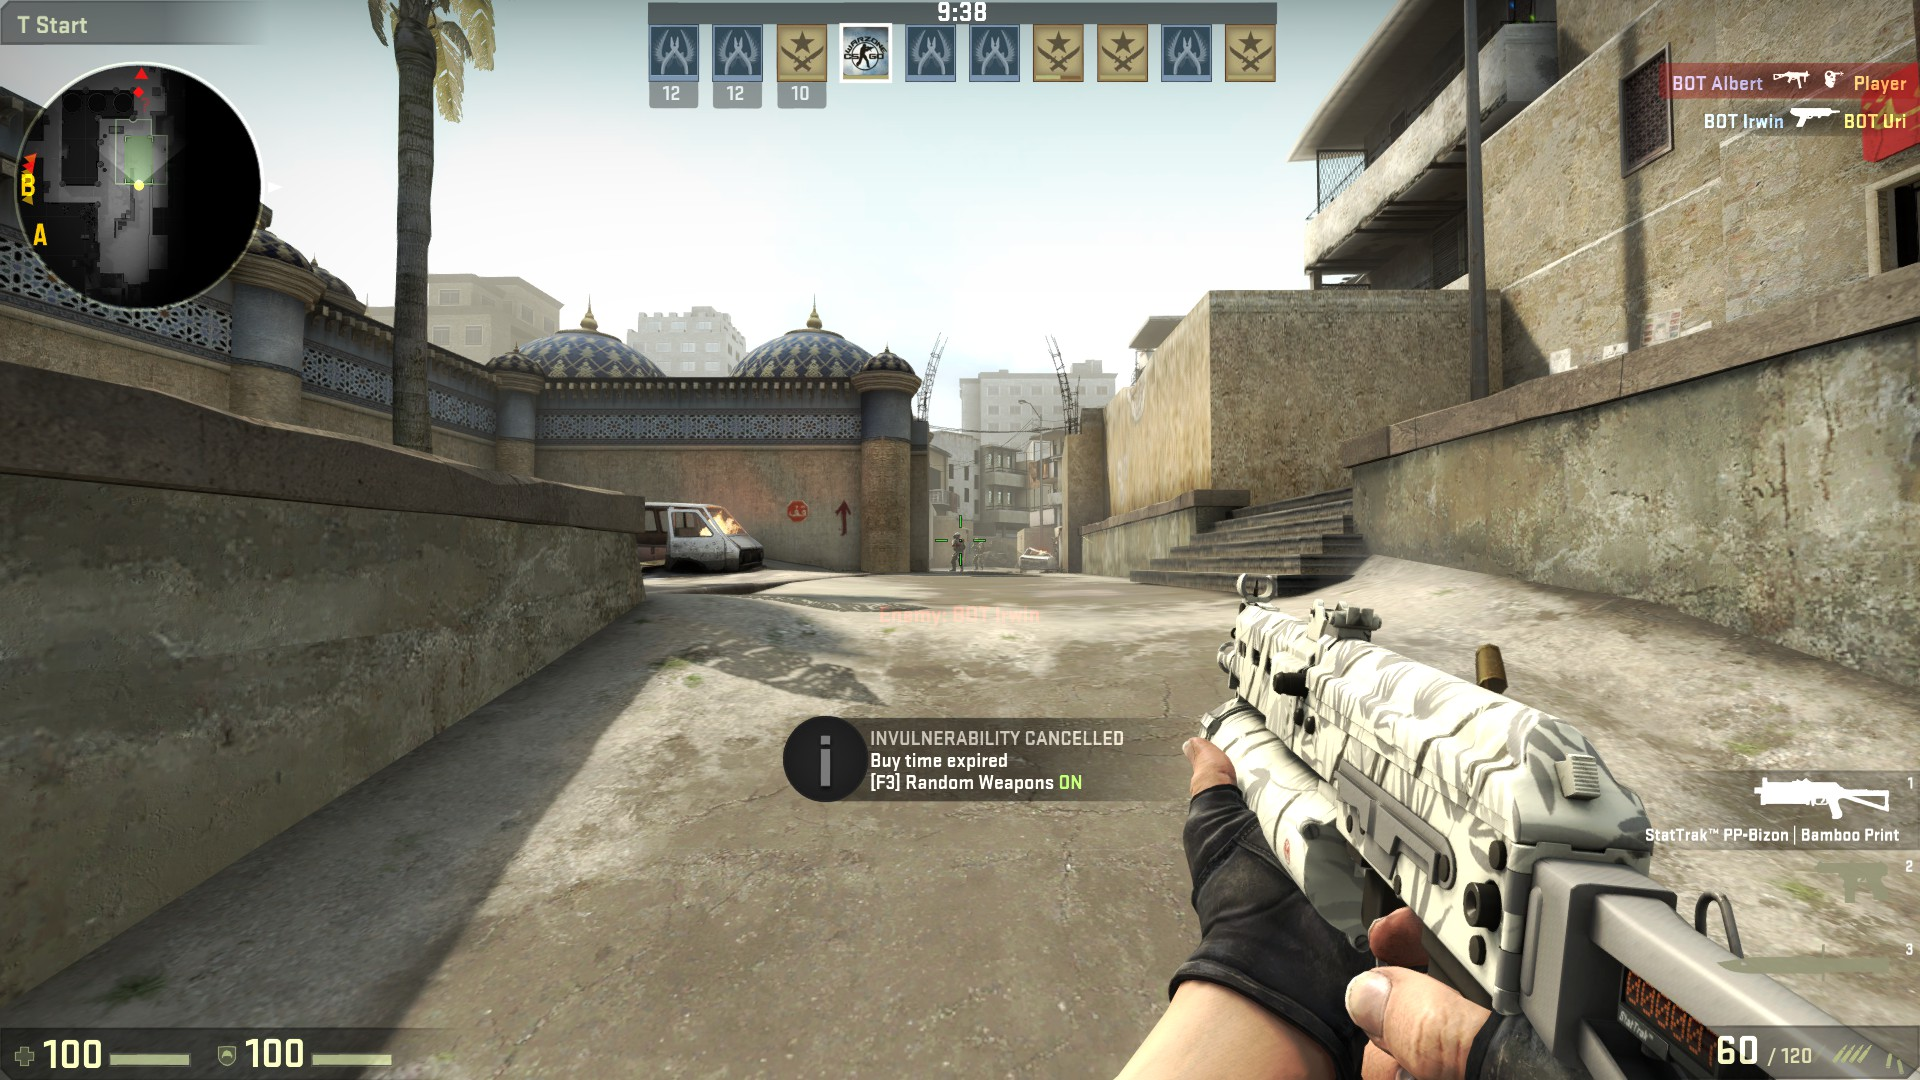c: (948, 531, 965, 574), (971, 535, 985, 571)
